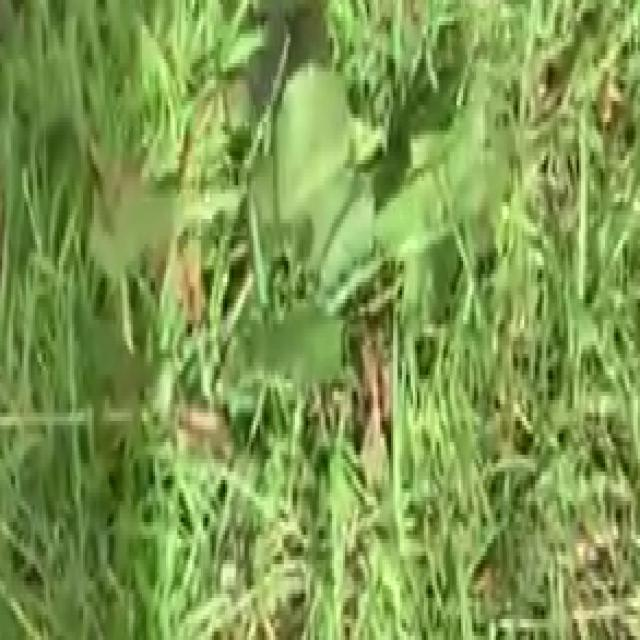organic waste: (186, 0, 574, 442)
